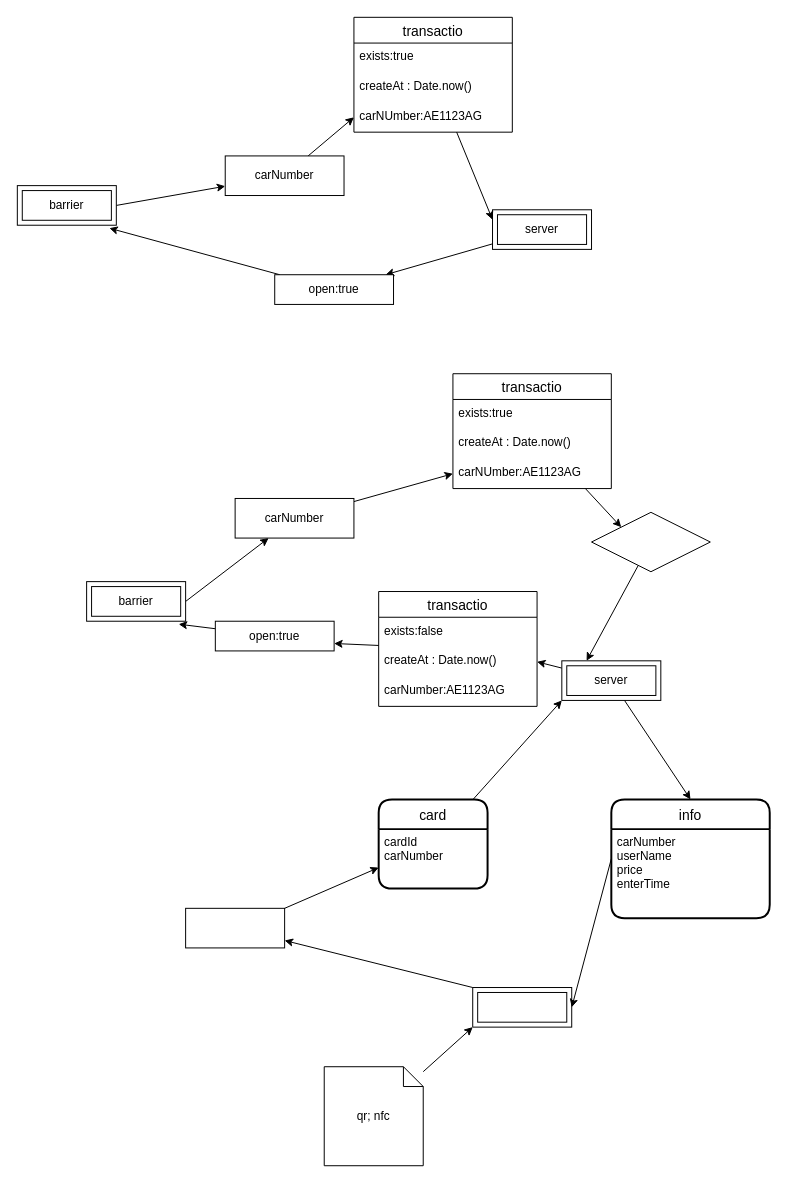
Some shapes in this 788 by 1183 pixel diagram are drawn without their labels. Here are the shapes that lost their labels. From the top down, the centre of each, then its label:
At (650,541): "exist:true".
At (235,927): "jwt".
At (522,1007): "terminal".
